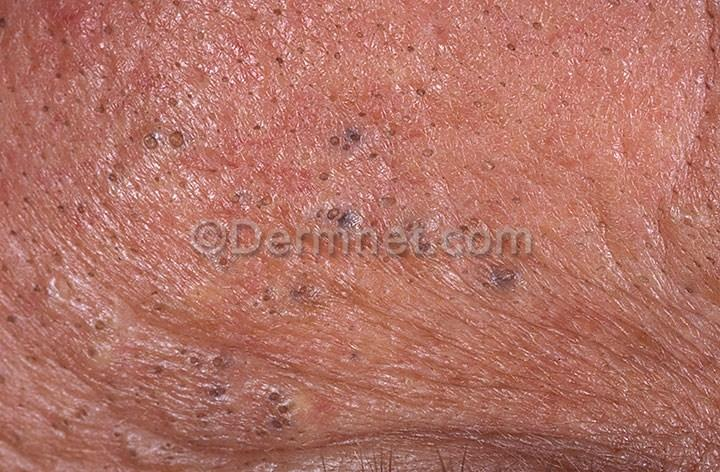Acne: (156, 226, 323, 338), (138, 305, 220, 431), (78, 101, 196, 164), (17, 291, 128, 356), (222, 378, 305, 451), (289, 193, 369, 256), (300, 103, 376, 166), (481, 253, 534, 299)
